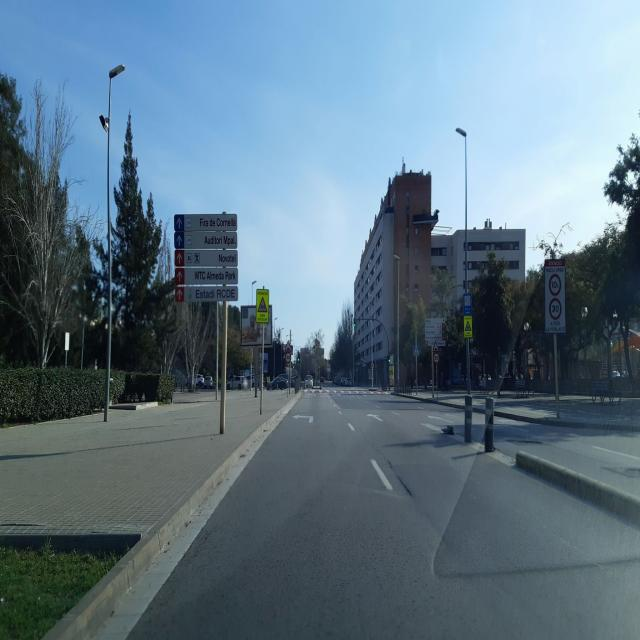car: (264, 373, 290, 391), (196, 374, 213, 391), (200, 374, 214, 390), (232, 374, 243, 390), (334, 373, 344, 386), (304, 376, 313, 388), (320, 376, 324, 383)
